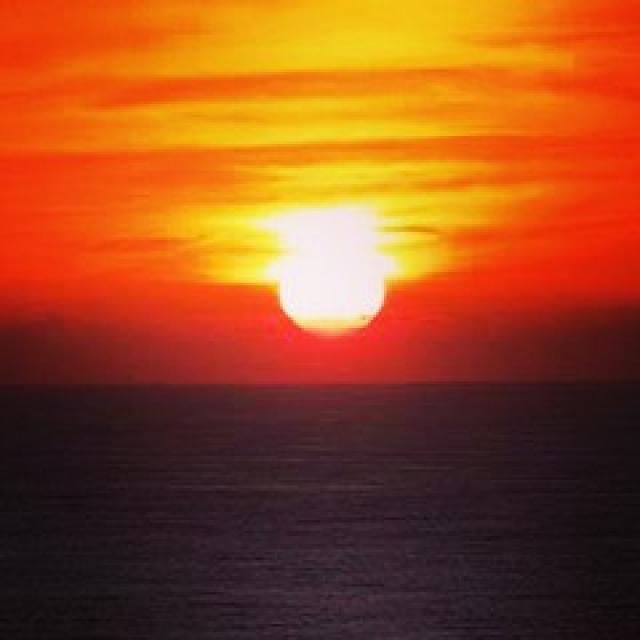sun: (232, 195, 434, 375)
